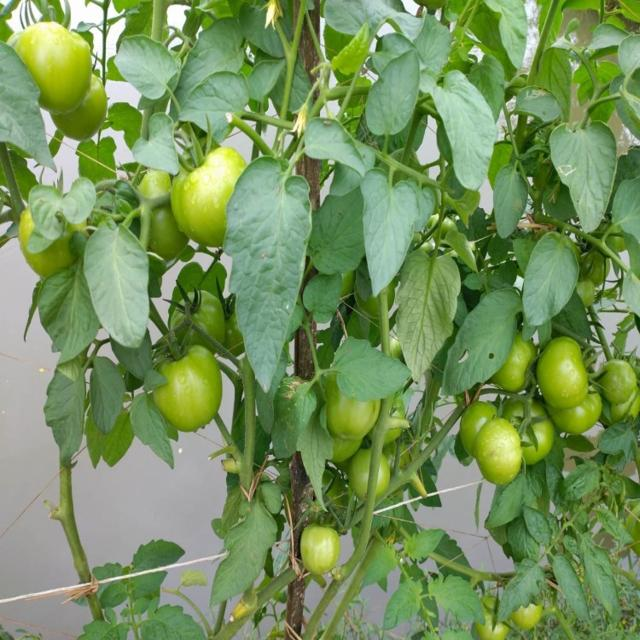tomato: (23, 24, 93, 108), (160, 344, 220, 430), (179, 144, 231, 236), (539, 337, 588, 406), (476, 417, 523, 483), (18, 228, 78, 278), (54, 83, 110, 133), (511, 403, 553, 464), (554, 387, 603, 437), (178, 288, 225, 336), (298, 521, 339, 576), (334, 397, 381, 443), (501, 342, 533, 394), (595, 358, 634, 399), (153, 212, 190, 253), (344, 452, 370, 503), (461, 405, 496, 441), (573, 273, 599, 312), (577, 249, 608, 280), (140, 172, 176, 198), (611, 389, 640, 417), (379, 458, 398, 499), (481, 611, 508, 638), (516, 602, 545, 627)
